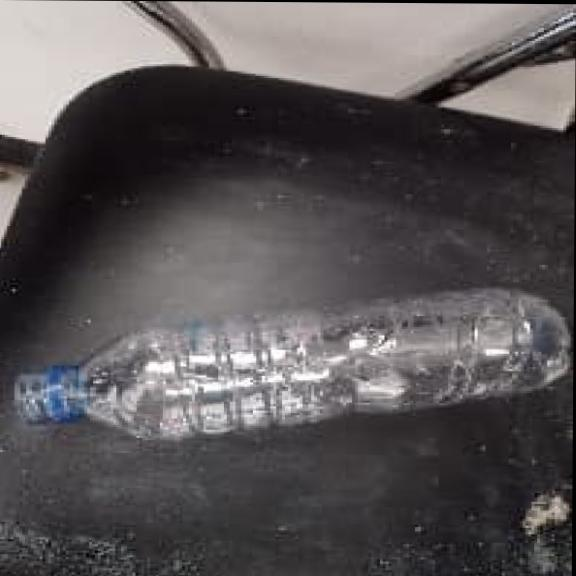Plastik: (17, 288, 572, 439)
